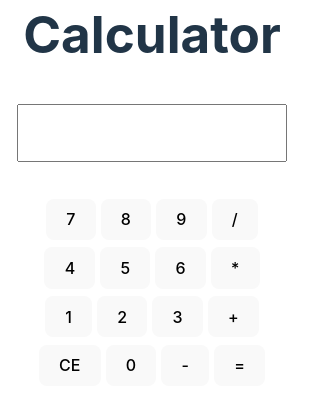
Scenario: Calculator › should compute * operator
Step 1. Click the button "2" → {"x": 122, "y": 317}, box left=97, top=296, right=147, bottom=337
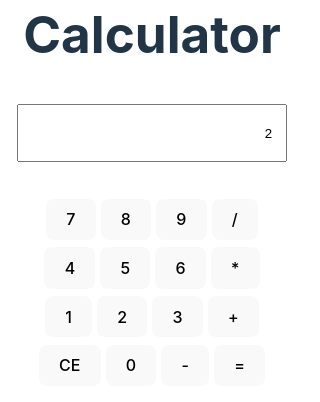
Step 2. Click the button "*" → {"x": 235, "y": 268}, box left=211, top=247, right=260, bottom=289
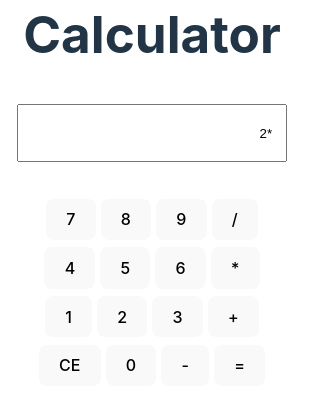
Step 3. Click the button "2" → {"x": 122, "y": 317}, box left=97, top=296, right=147, bottom=337
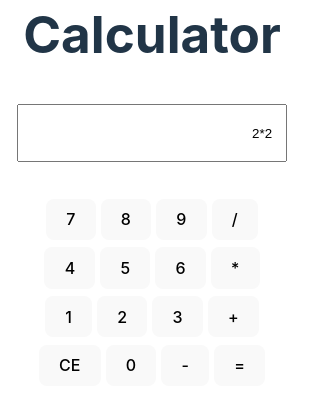
Now the field holds "2*2", box left=16, top=104, right=287, bottom=162
Step 4. Click the button "=" → {"x": 240, "y": 365}, box left=214, top=345, right=265, bottom=386
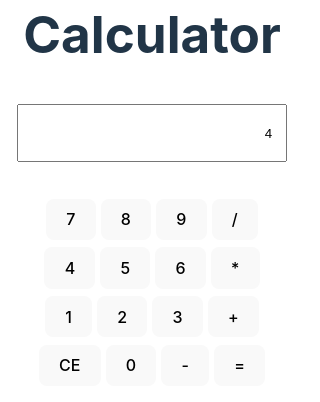
Now the field holds "4", box left=16, top=104, right=287, bottom=162
